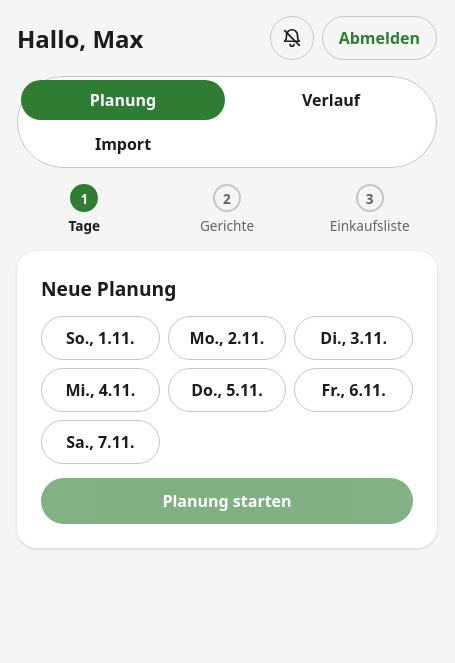
Test: notifications switch › does not subscribe when the member refuses permission, and says how to allow it
Click the button named "Benachrichtigungen an" at (292, 38), box [270,16,314,60]
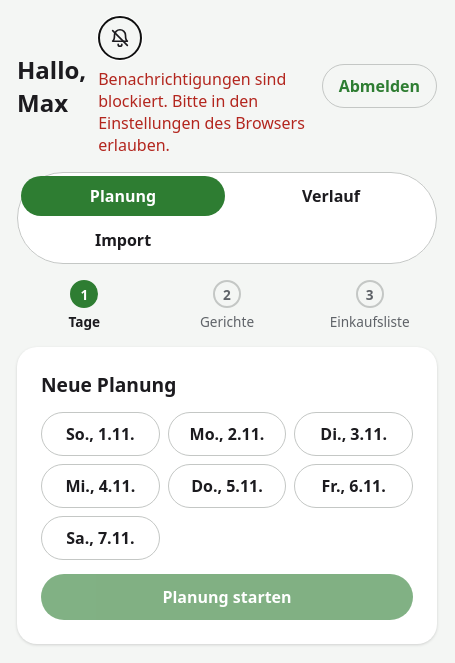
Check: the message shows "blockiert", box [98,68,305,156]
